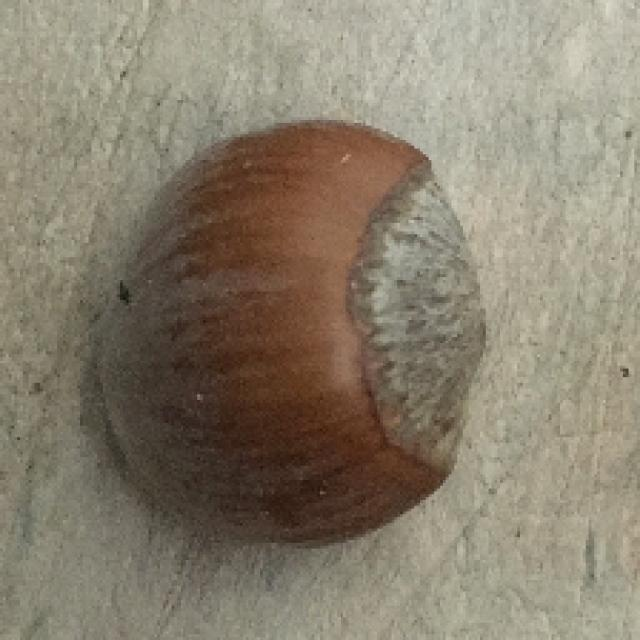QualityHazelnut: (97, 119, 490, 549)
